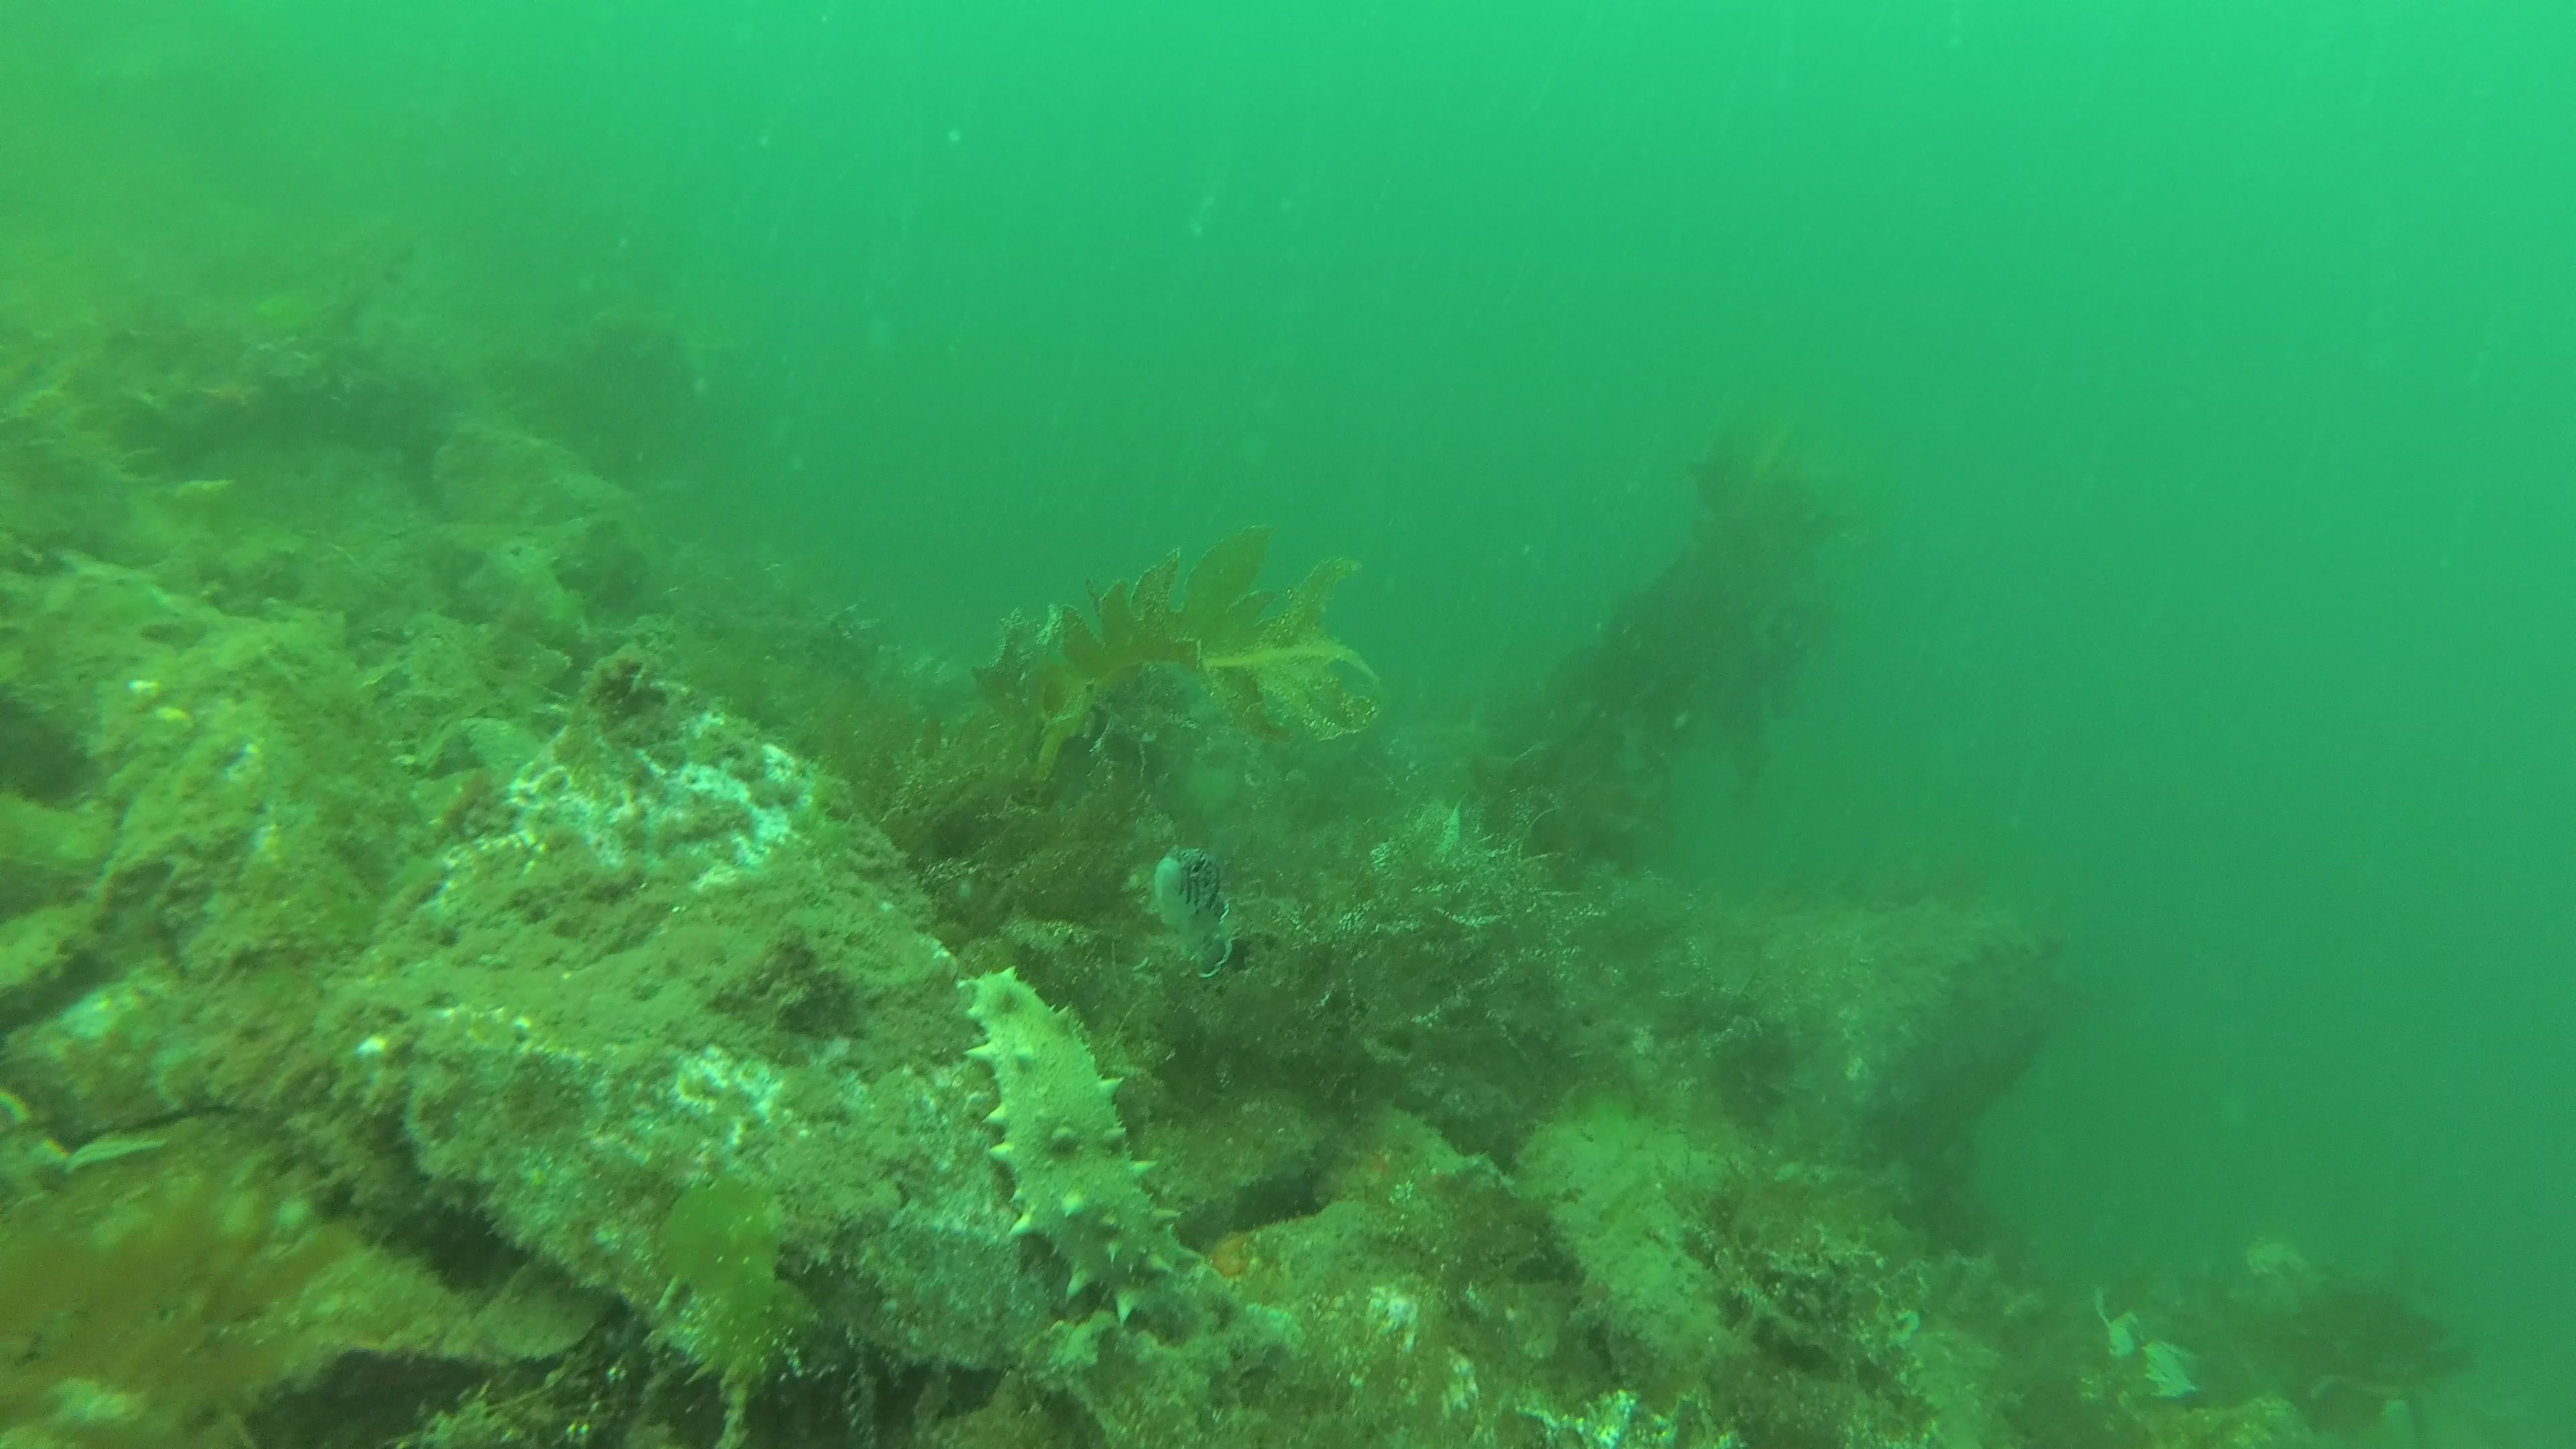holothurian: (964, 964, 1196, 1322)
